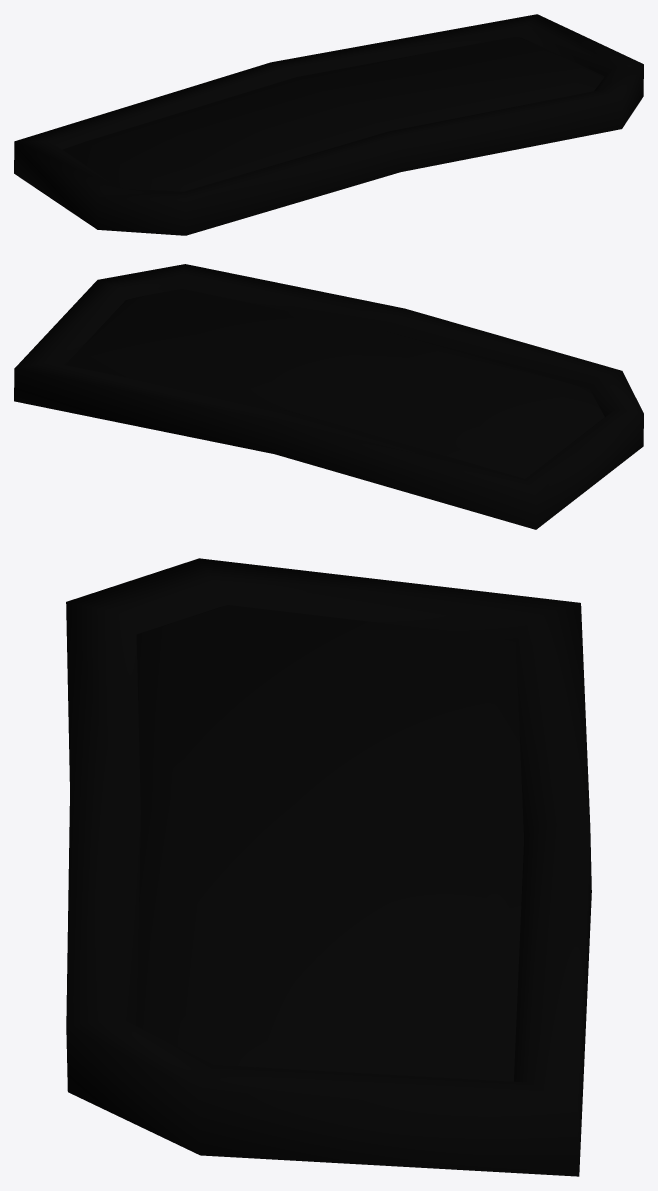
File: Seat_ULTIMATE_TABDOWN_2K.glb
The picture shows the model from 3 angles, top to bottom: view 1: azimuth 30°, elevation 25°; view 2: azimuth 150°, elevation 25°; view 3: azimuth 270°, elevation 25°; orthographic projection. The views are drawn at different scales.
Visible parts, largest first — view 1: Seat_ULTIMATE_TABDOWN_2K; view 2: Seat_ULTIMATE_TABDOWN_2K; view 3: Seat_ULTIMATE_TABDOWN_2K.
Part boxes in pixels (x1,y1,x2,y2): Seat_ULTIMATE_TABDOWN_2K: (14, 14, 643, 235); Seat_ULTIMATE_TABDOWN_2K: (14, 264, 643, 529); Seat_ULTIMATE_TABDOWN_2K: (66, 558, 591, 1176).
Size of the model in its own units: 0.0406 by 0.00456 by 0.0169.
1 material, 1 textured.
